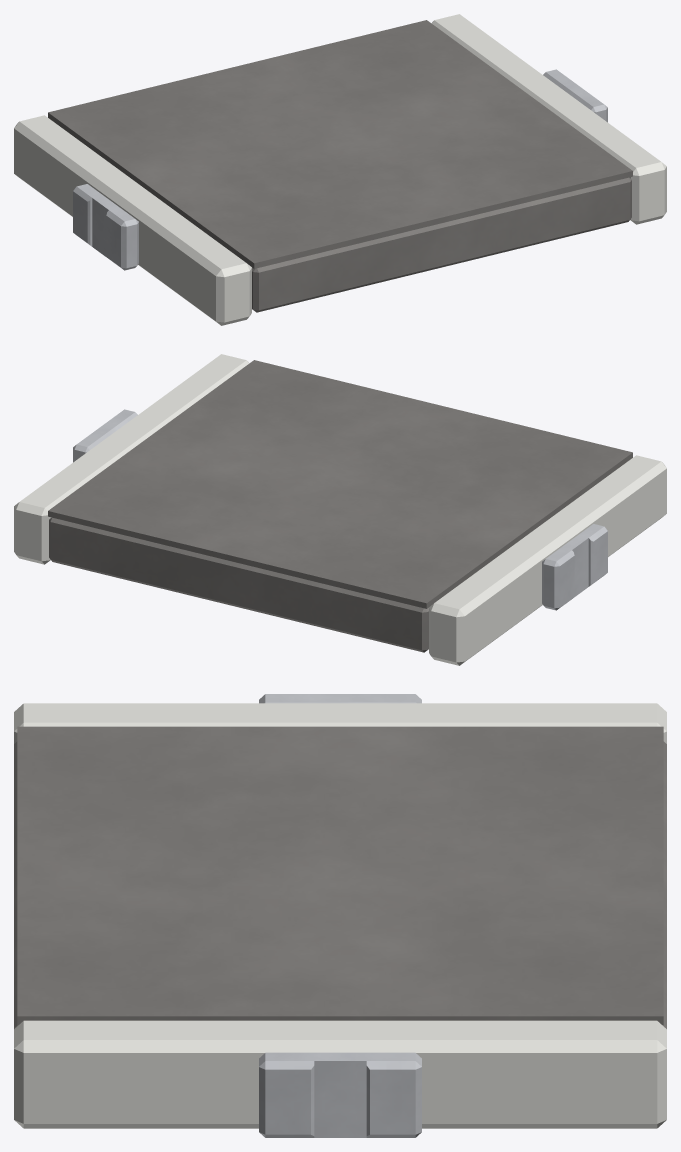
File: ax_rover_13_chassis_s.glb
3 views of the same model, one above another, from view 1: azimuth 30°, elevation 25°; view 2: azimuth 150°, elevation 25°; view 3: azimuth 270°, elevation 25° (orthographic). The views are drawn at different scales.
Visible parts, largest first — view 1: deck_grid, side_beams, cross_members, axle_stations; view 2: deck_grid, side_beams, cross_members, axle_stations; view 3: deck_grid, side_beams, axle_stations, cross_members.
Boxes of the visible parts, box(x1,y1,x2,y2) form: deck_grid: box(48, 20, 632, 268); side_beams: box(14, 14, 666, 325); cross_members: box(252, 177, 631, 312); axle_stations: box(73, 69, 607, 270); deck_grid: box(48, 360, 632, 608); side_beams: box(14, 354, 666, 665); cross_members: box(49, 517, 428, 652); axle_stations: box(73, 409, 607, 610); deck_grid: box(17, 726, 663, 1025); side_beams: box(14, 703, 666, 1128); axle_stations: box(259, 694, 421, 1137); cross_members: box(14, 741, 666, 1028).
Size of the model in its own units: 2.7 by 0.3 by 2.
Materials: 3 (2 with a texture image).
